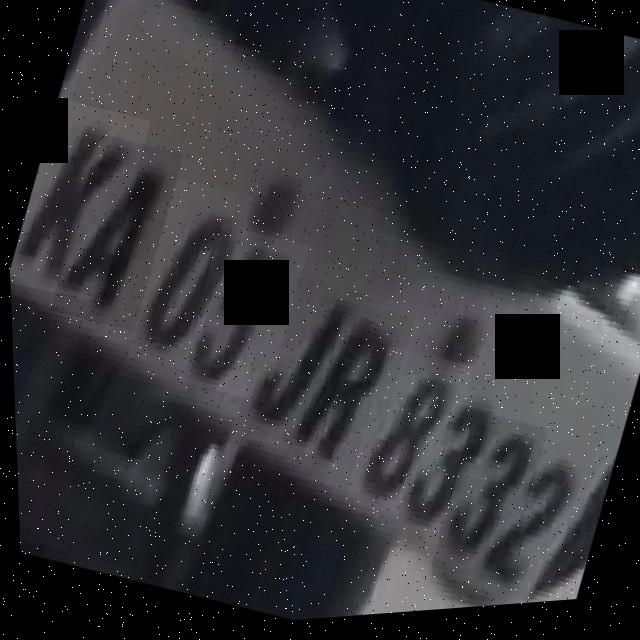0: (133, 191, 246, 370)
3: (433, 427, 540, 584), (395, 403, 503, 545)
5: (180, 236, 305, 397)
8: (343, 362, 464, 519)
A: (53, 148, 178, 327)
J: (234, 286, 359, 445)
K: (15, 108, 142, 293)
R: (276, 311, 409, 486)
